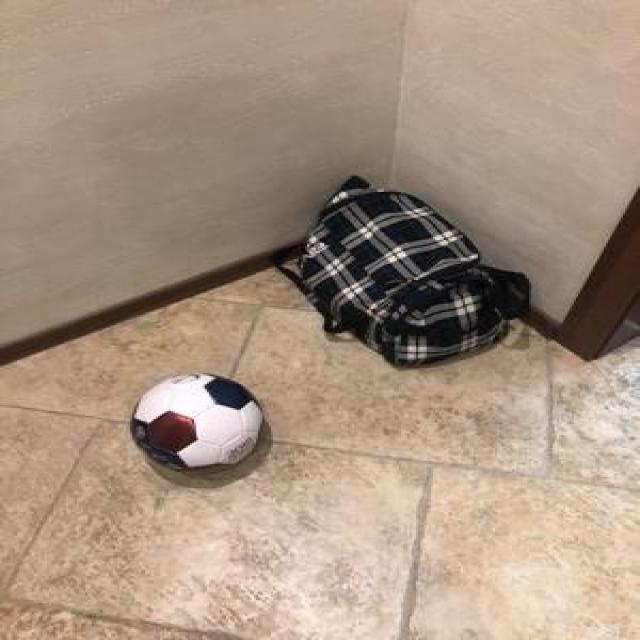Soccer Ball: (121, 368, 266, 478)
